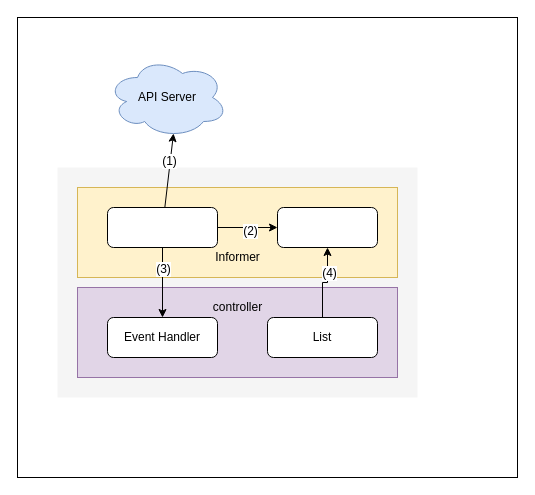
The diagram is 535 pixels wide and 495 high, and some of its shapes have lost their labels. The centre of each missing label's shape, as x and y in pixels:
"Cache" belongs at pixel 327 227.
"ListAndWatch" belongs at pixel 162 227.
